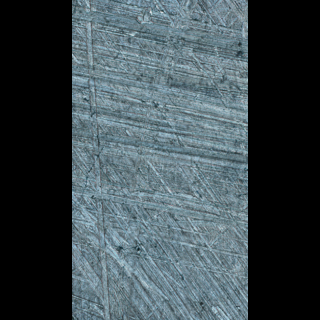d: (109, 0, 201, 319), (71, 157, 247, 231), (76, 0, 114, 319)
